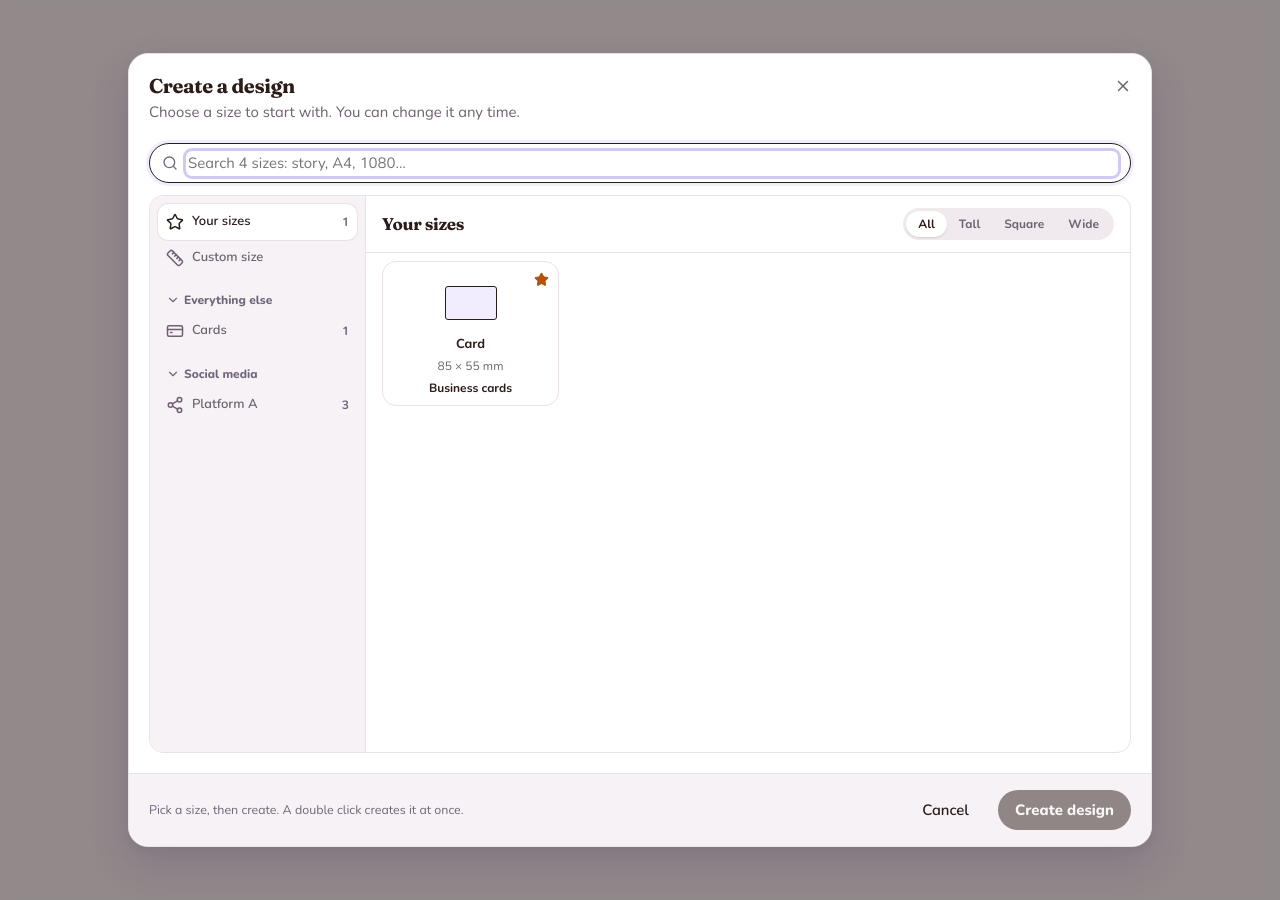
it: Create a design dialog › searches every size and names where each one is
In the search field named "Search sizes": (652, 163) [186,151,1118,176], type "1:1"
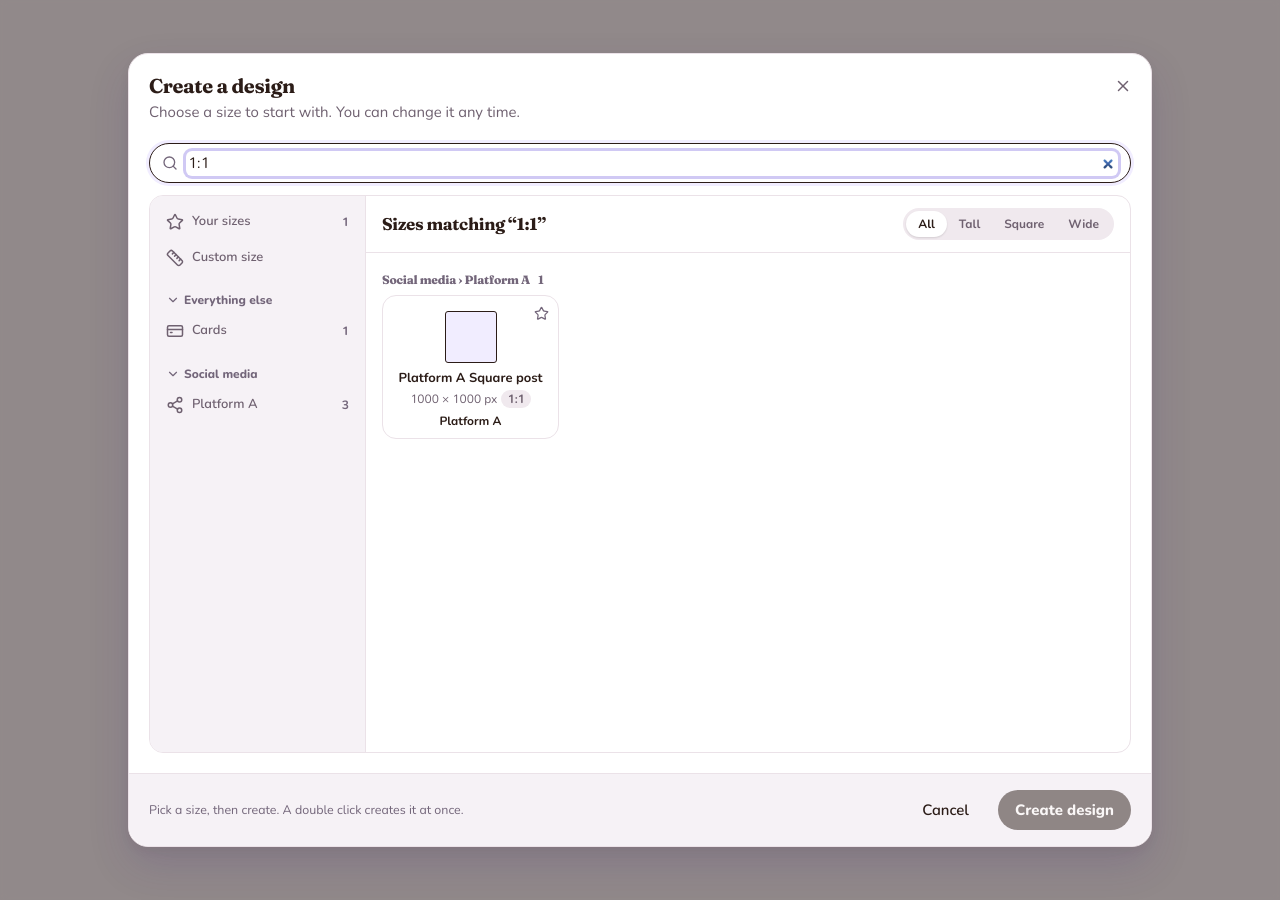
Check: the text "Platform A" below "Social media › Platform A" is shown, box [440,413,501,429]
Replace the text in the search field named "Search sizes" with "zzzz": (652, 163) [186,151,1118,176]
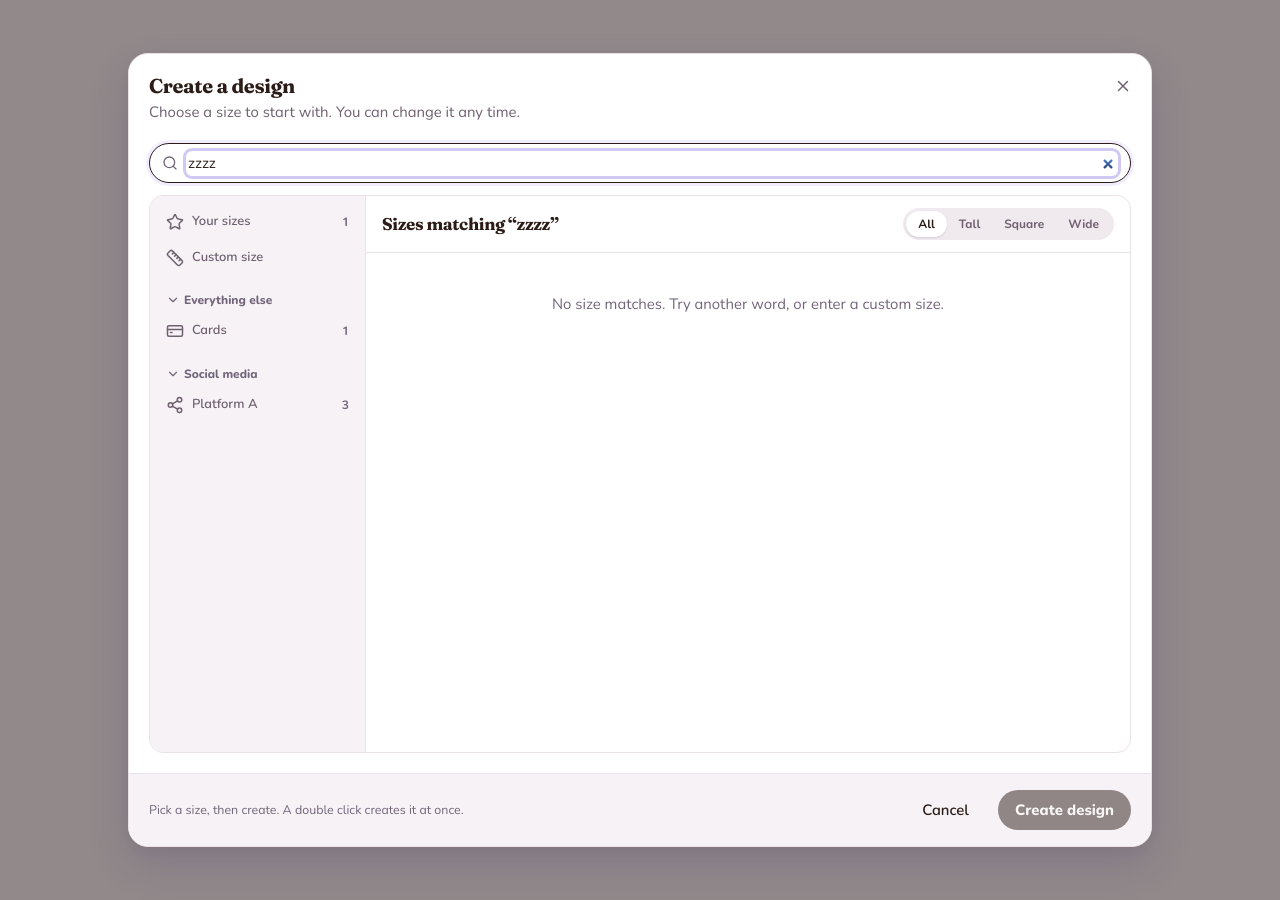
Check: the text "No size matches. Try another word, or enter a custom size." is shown, box [552,294,944,314]
